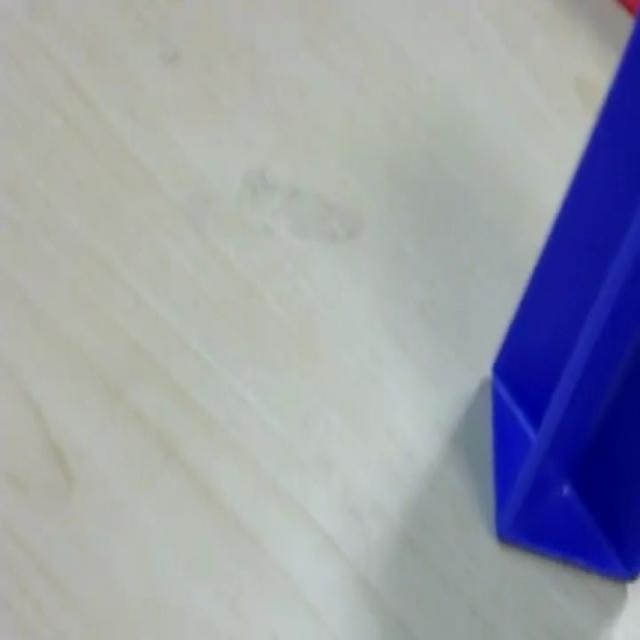blue_block: (489, 6, 639, 582)
